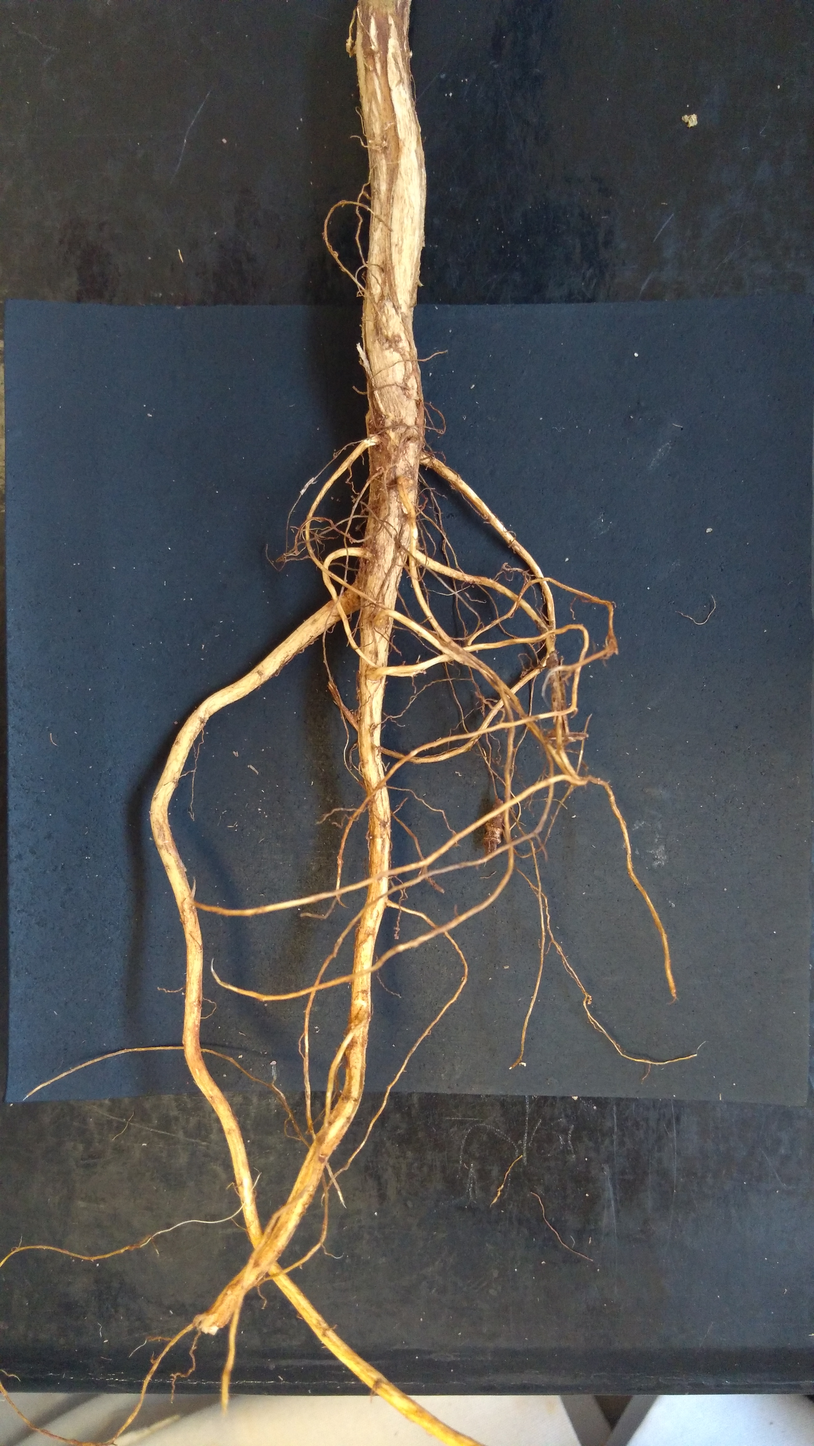nodule: (484, 798, 504, 854), (384, 414, 407, 448), (681, 113, 698, 128), (546, 654, 557, 669), (270, 1060, 276, 1065)
